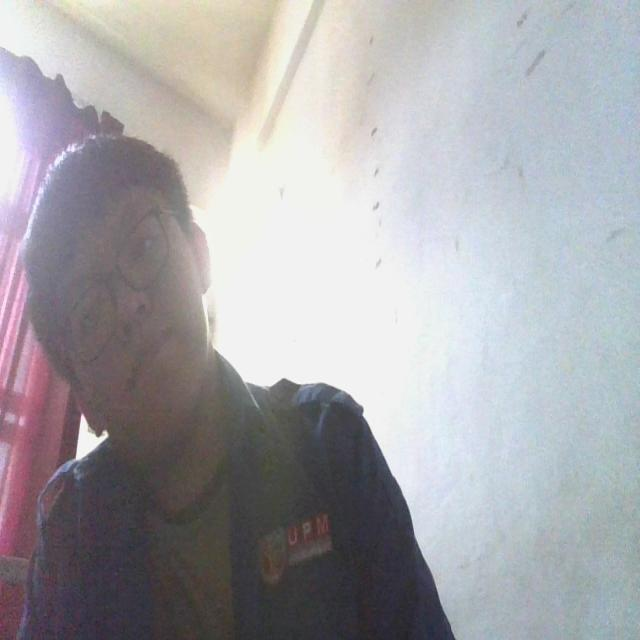person_with_labcoat: (18, 137, 455, 639)
